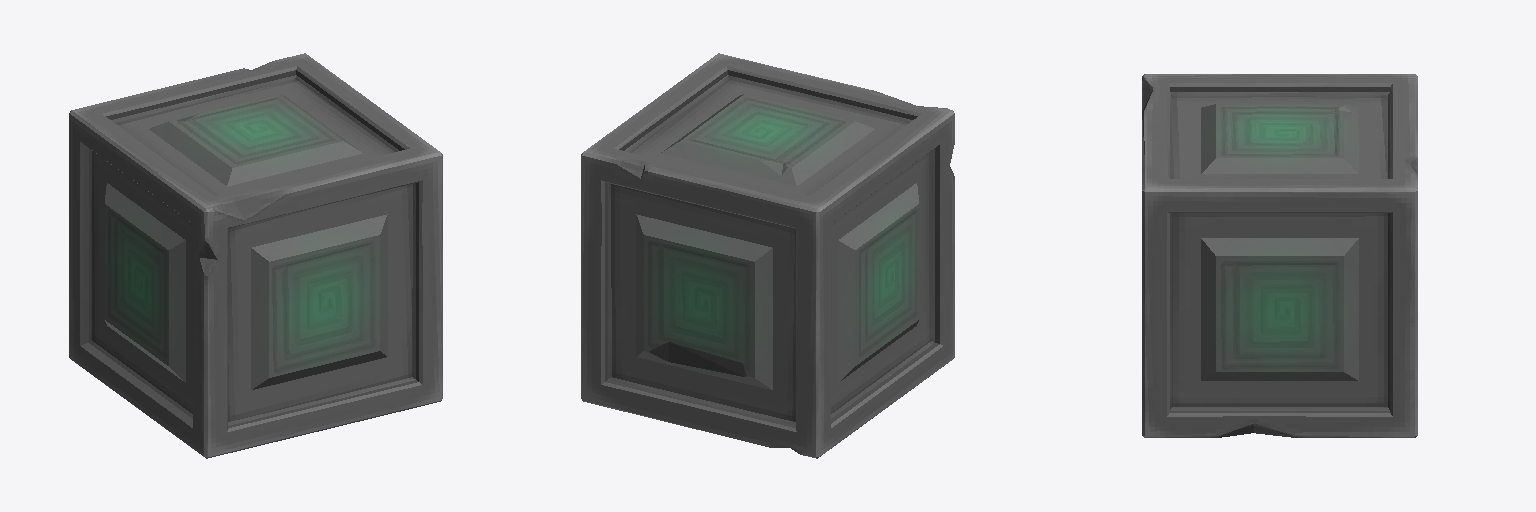
3 renders of one model, left to right at view 1: azimuth 30°, elevation 25°; view 2: azimuth 150°, elevation 25°; view 3: azimuth 270°, elevation 25°, orthographic.
Visible parts, largest first — view 1: Puzzlebox_[number redacted]:pCube1; view 2: Puzzlebox_[number redacted]:pCube1; view 3: Puzzlebox_[number redacted]:pCube1.
Boxes of the visible parts, x1=… form: Puzzlebox_[number redacted]:pCube1: x1=69, y1=53, x2=442, y2=458; Puzzlebox_[number redacted]:pCube1: x1=581, y1=53, x2=954, y2=458; Puzzlebox_[number redacted]:pCube1: x1=1142, y1=74, x2=1417, y2=437.
Size of the model in its own units: 3 by 3 by 3.
Materials: 1 (1 with a texture image).